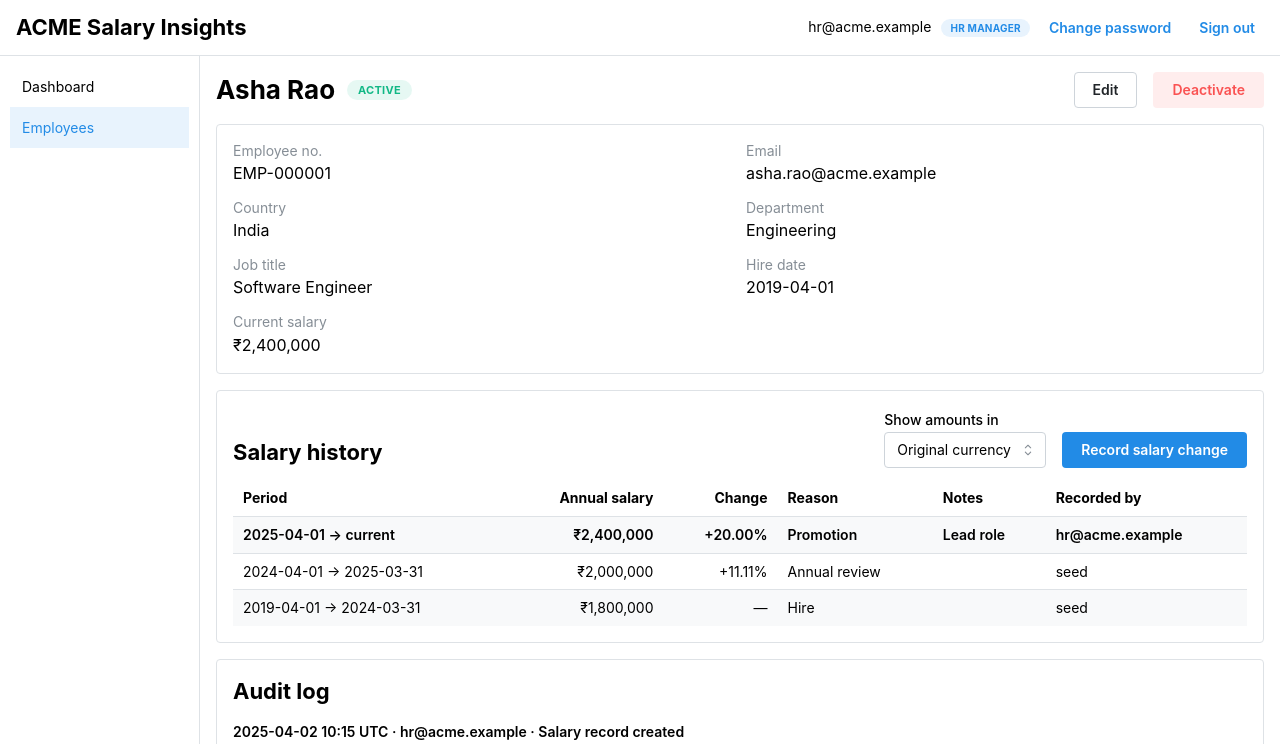
Scenario: Employee pages › employee page › deactivates only after confirmation, keeping the record
Click the button "Deactivate" at (1209, 90), box [1153,72,1264,108]
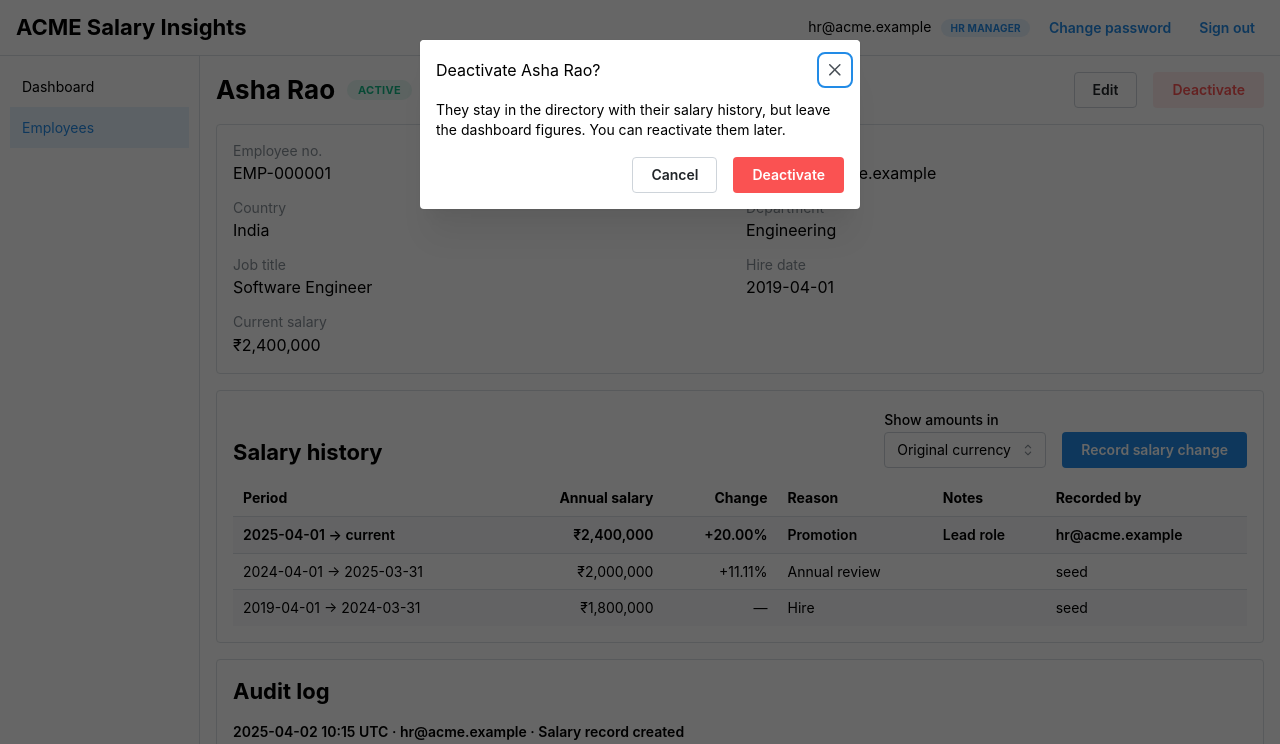
Click the button "Cancel" at (675, 175), box [632,157,717,193]
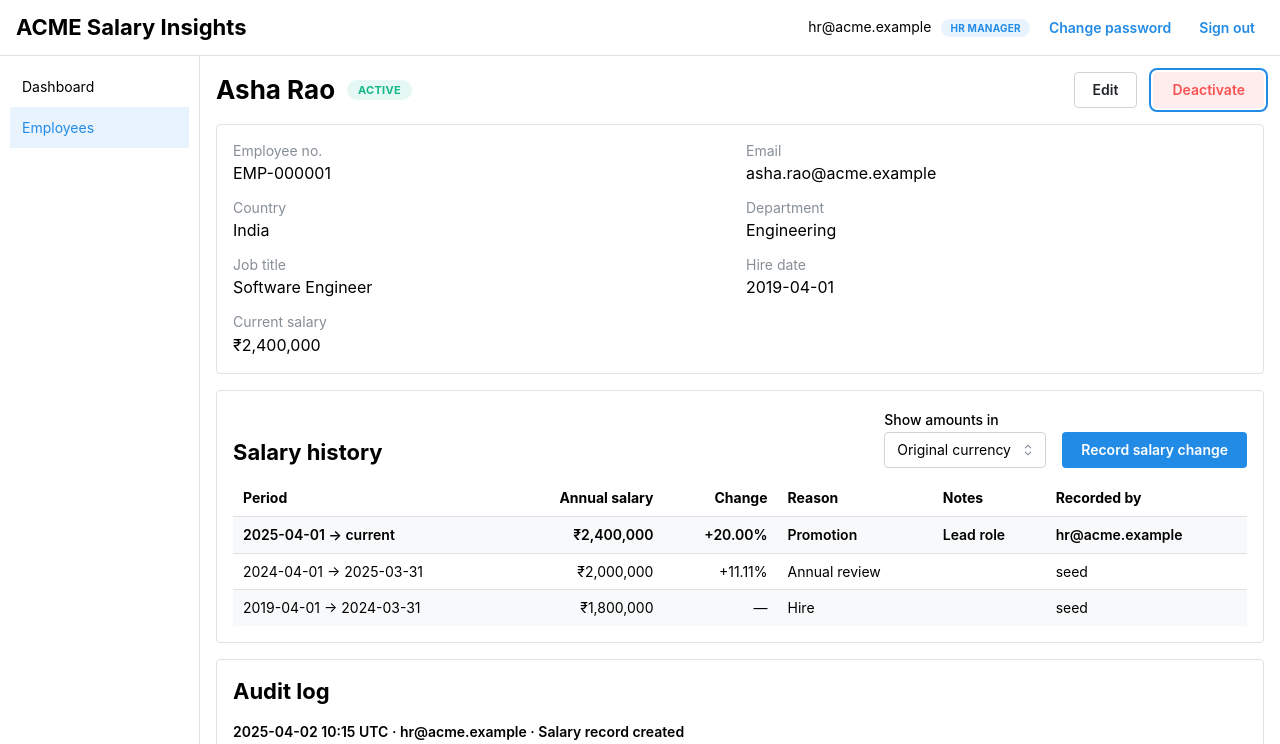
Expected: the dialog is gone
Click the button "Deactivate" at (1209, 90), box [1153,72,1264,108]
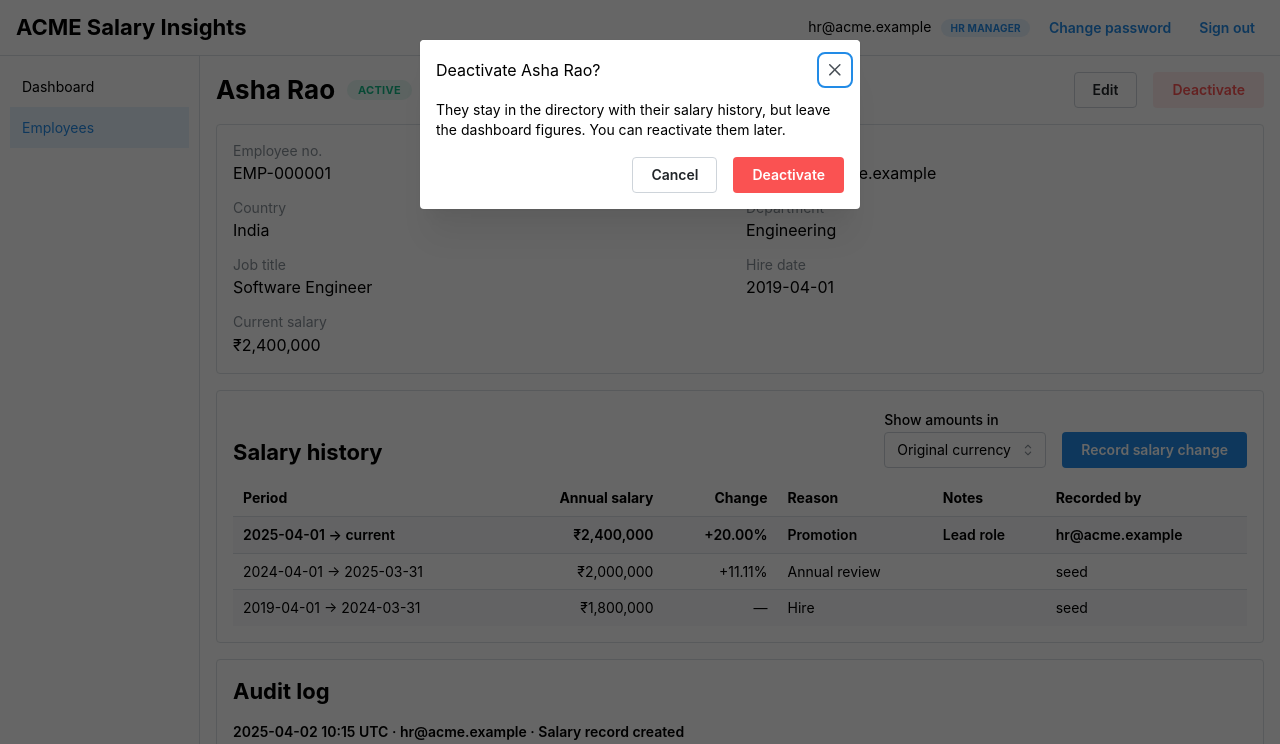
Click the button "Deactivate" at (789, 175), box [733,157,844,193]
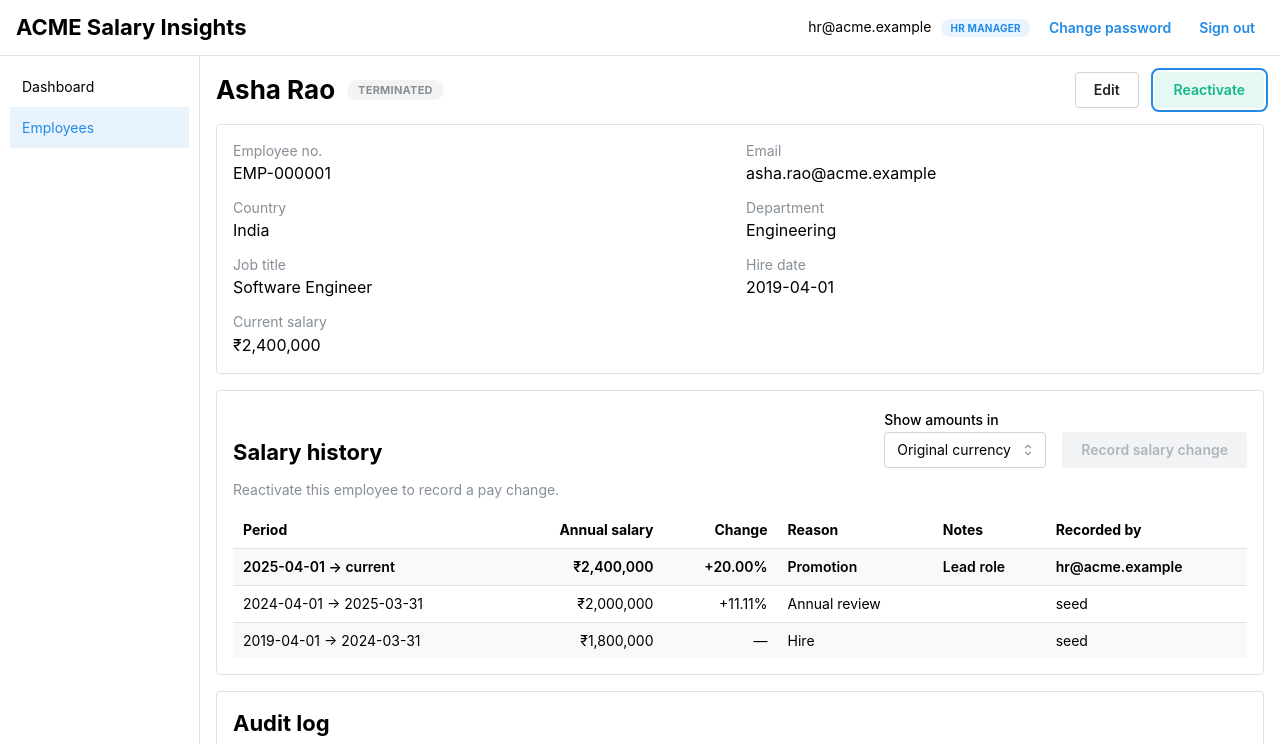
Expected: the dialog is gone
Expected: the text "terminated" is shown, [358,81,433,99]
Expected: the button "Reactivate" is shown, [1155,72,1264,108]
